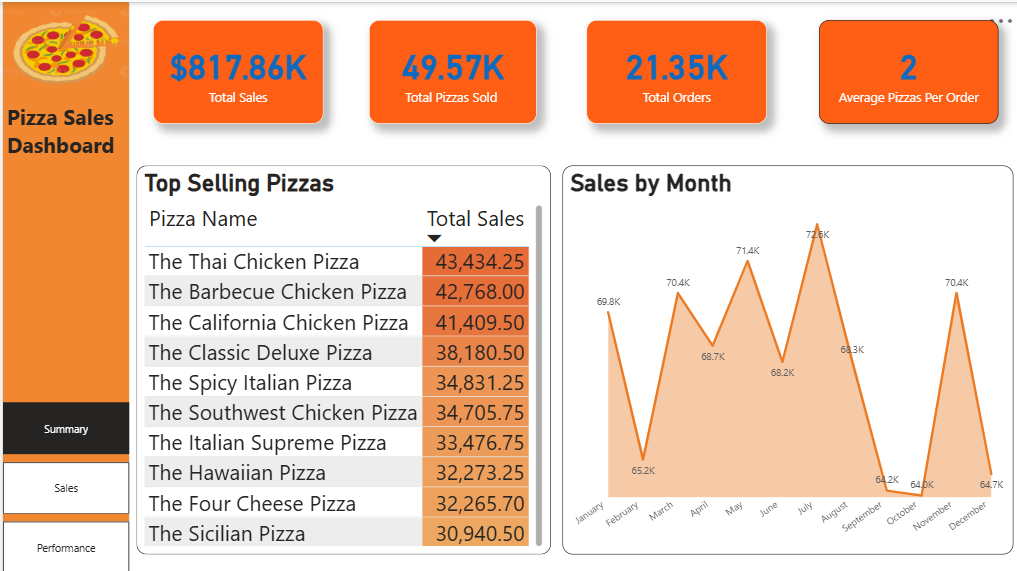

Layout of this report page (visuals, bound fields, positions):
{"tool":"powerbi","page":{"name":"Summary","canvas":[1280,720],"ordinal":0},"visuals":[{"type":"shape","box":[159.1,0,1121.4,720.5],"z":0},{"type":"card","fields":{"Values":["Calculations.Total Sales"]},"box":[189.3,22.3,214.7,130.4],"z":1000},{"type":"card","fields":{"Values":["Sum(order_details.quantity)"]},"box":[461.3,22.3,211.6,130.4],"z":2000},{"type":"tableEx","title":"Top Selling Pizzas","fields":{"Values":["pizza_types.name","Calculations.Total Sales"]},"box":[168.6,206.8,521.7,489.9],"z":3000},{"type":"card","fields":{"Values":["CountNonNull(orders.order_id)"]},"box":[734.9,22.3,227.5,130.4],"z":4000},{"type":"image","box":[0,0,159.1,120.9],"z":5000},{"type":"pageNavigator","box":[0,504.2,159.1,216.3],"z":6000},{"type":"card","fields":{"Values":["Calculations.Average Pizzas Per Order"]},"box":[1027.5,22.3,225.9,130.4],"z":7000},{"type":"textbox","box":[0,120.9,159.1,130.4],"z":8000},{"type":"areaChart","title":"Sales by Month","fields":{"Category":["orders.date.Variation.Date Hierarchy.Month"],"Y":["Calculations.Total Sales"]},"box":[704.6,206.8,567.8,489.9],"z":9000}]}

Visuals, with their boxes in screenshot pixels (x1, y1, x2, y2), scaled from the page's 1280x720 canvas onto the 1017x571 screenshot:
shape: [x1=126, y1=0, x2=1016, y2=570]
card - Calculations.Total Sales: [x1=150, y1=18, x2=321, y2=121]
card - Sum(order_details.quantity): [x1=367, y1=18, x2=535, y2=121]
"Top Selling Pizzas" tableEx: [x1=134, y1=164, x2=548, y2=553]
card - CountNonNull(orders.order_id): [x1=584, y1=18, x2=765, y2=121]
image: [x1=0, y1=0, x2=126, y2=96]
pageNavigator: [x1=0, y1=400, x2=126, y2=570]
card - Calculations.Average Pizzas Per Order: [x1=816, y1=18, x2=996, y2=121]
textbox: [x1=0, y1=96, x2=126, y2=199]
"Sales by Month" areaChart: [x1=560, y1=164, x2=1011, y2=553]
